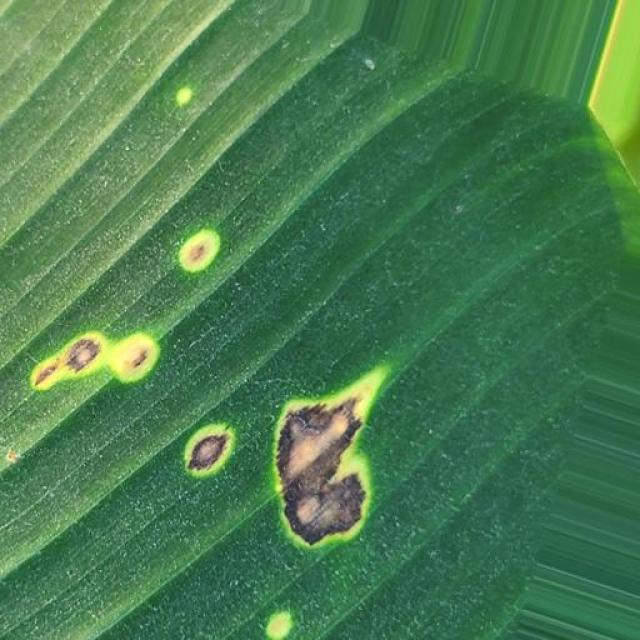Early_rust: (25, 218, 387, 640), (157, 80, 221, 118)
